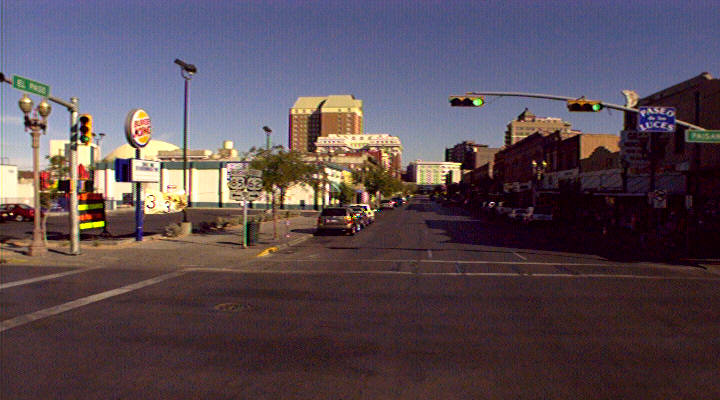Ramp: (75, 247, 265, 270)
